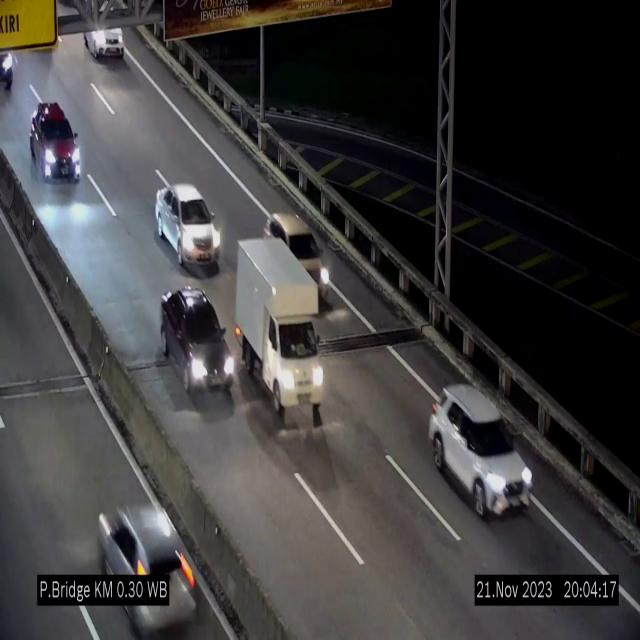Car: (90, 490, 210, 640), (429, 384, 534, 518), (161, 284, 237, 406), (154, 184, 222, 272), (265, 210, 331, 298), (23, 96, 84, 190), (81, 5, 133, 70), (0, 45, 23, 87)
Truck: (237, 237, 321, 424)
